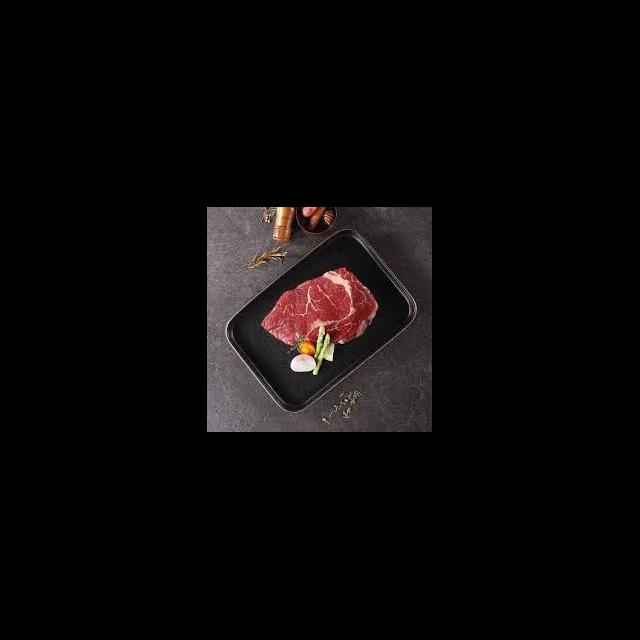beef: (268, 268, 382, 347)
